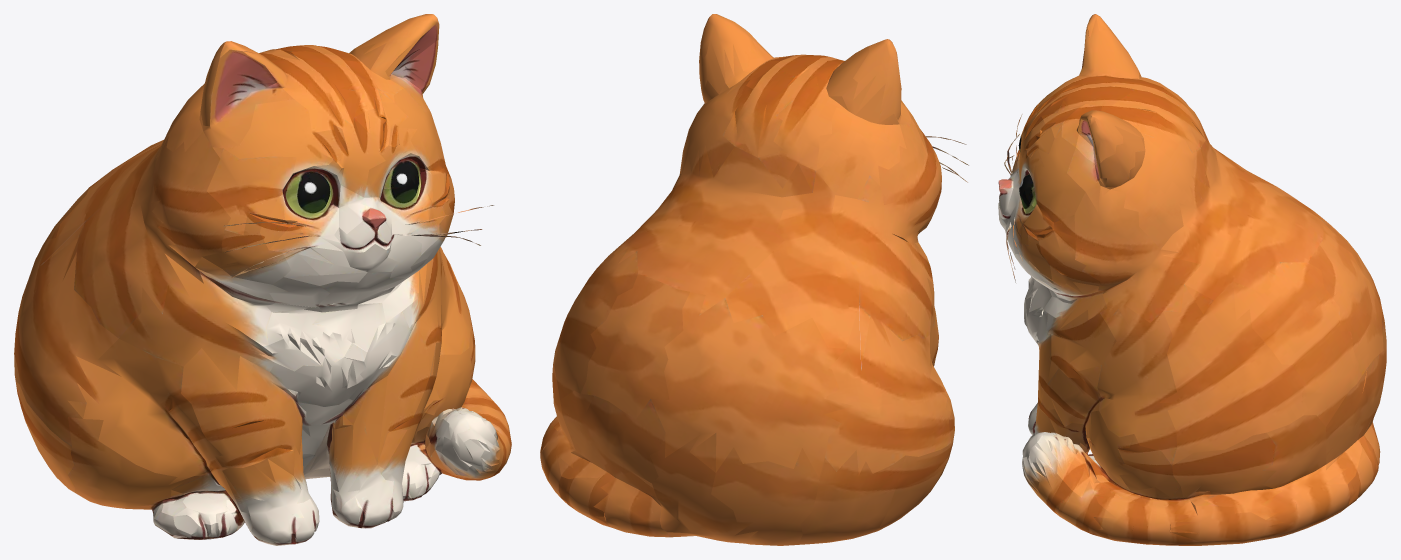
File: cat-sitting.glb
The picture shows the model from 3 angles, left to right: view 1: azimuth 30°, elevation 25°; view 2: azimuth 150°, elevation 25°; view 3: azimuth 270°, elevation 25°; orthographic projection. The views are drawn at different scales.
Bounding box in the file's own units: 1.74 × 1.9 × 1.63.
1 material, 1 textured.
